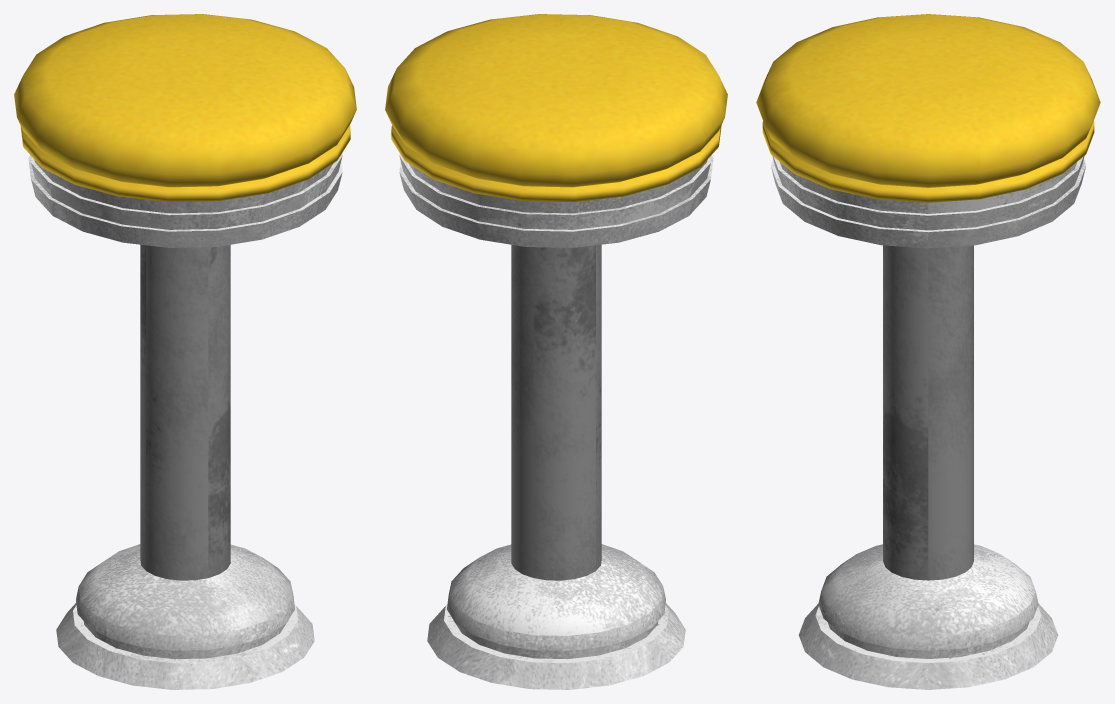
File: Yellow Stool.fbx
The picture shows the model from 3 angles, left to right: view 1: azimuth 30°, elevation 25°; view 2: azimuth 150°, elevation 25°; view 3: azimuth 270°, elevation 25°; orthographic projection.
Visible parts, largest first — view 1: Yellow Stool; view 2: Yellow Stool; view 3: Yellow Stool.
Boxes of the visible parts, bbox=[...] form: Yellow Stool: bbox=[14, 14, 356, 689]; Yellow Stool: bbox=[385, 14, 727, 689]; Yellow Stool: bbox=[756, 14, 1100, 689].
Size of the model in its own units: 31.91 by 58.23 by 31.91.
